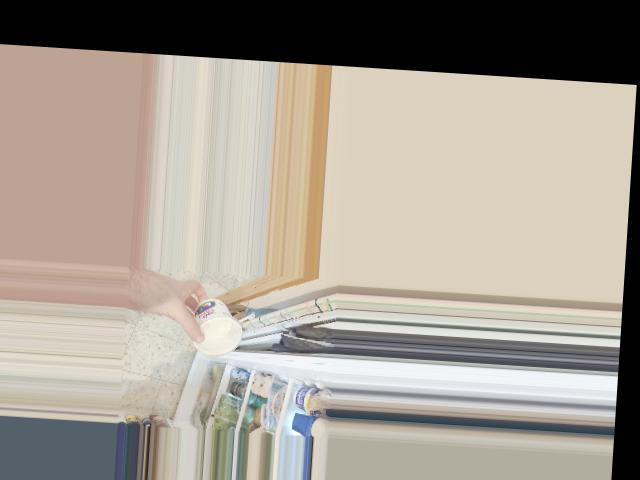cotage: (183, 291, 246, 356)
